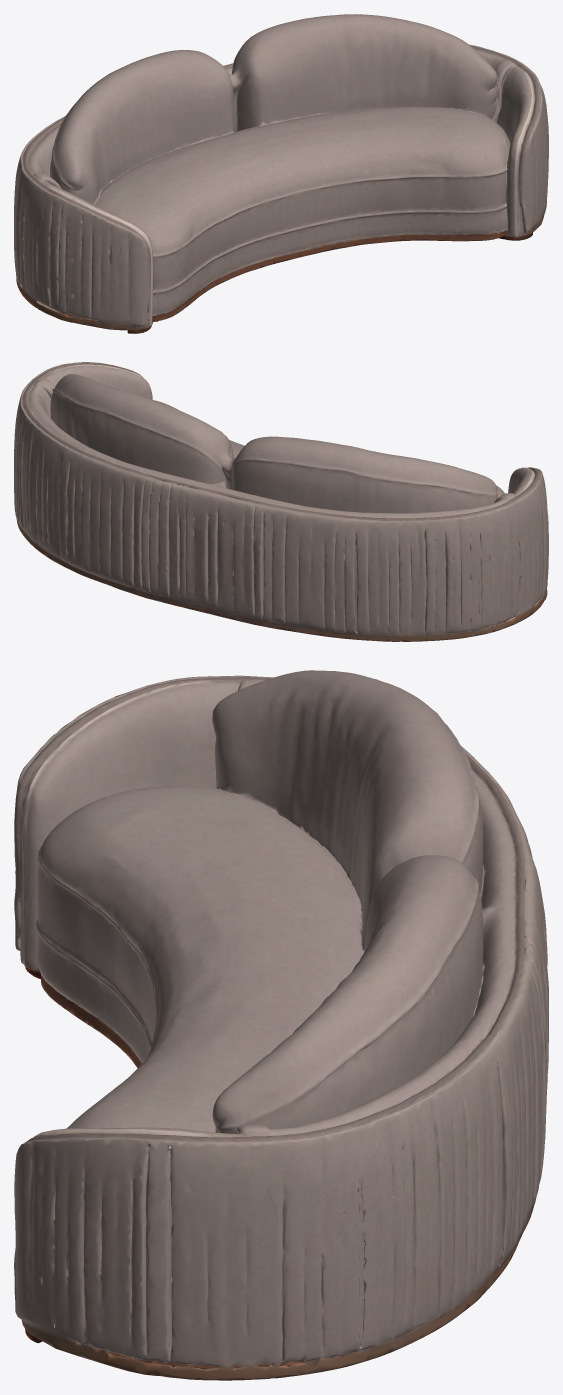
Rendered from Curved Upholstered Two-Seater Sofa with Metal Accents [Npc_vH].glb.
3 renders of one model, top to bottom at view 1: azimuth 30°, elevation 25°; view 2: azimuth 150°, elevation 25°; view 3: azimuth 270°, elevation 25°, orthographic. The views are drawn at different scales.
Visible parts, largest first — view 1: world; view 2: world; view 3: world.
Part boxes in pixels (x1,y1,x2,y2): world: (14, 14, 548, 333); world: (14, 362, 548, 641); world: (14, 670, 548, 1380).
Size of the model in its own units: 0.9922 by 0.327 by 0.4682.
1 material, 1 textured.
